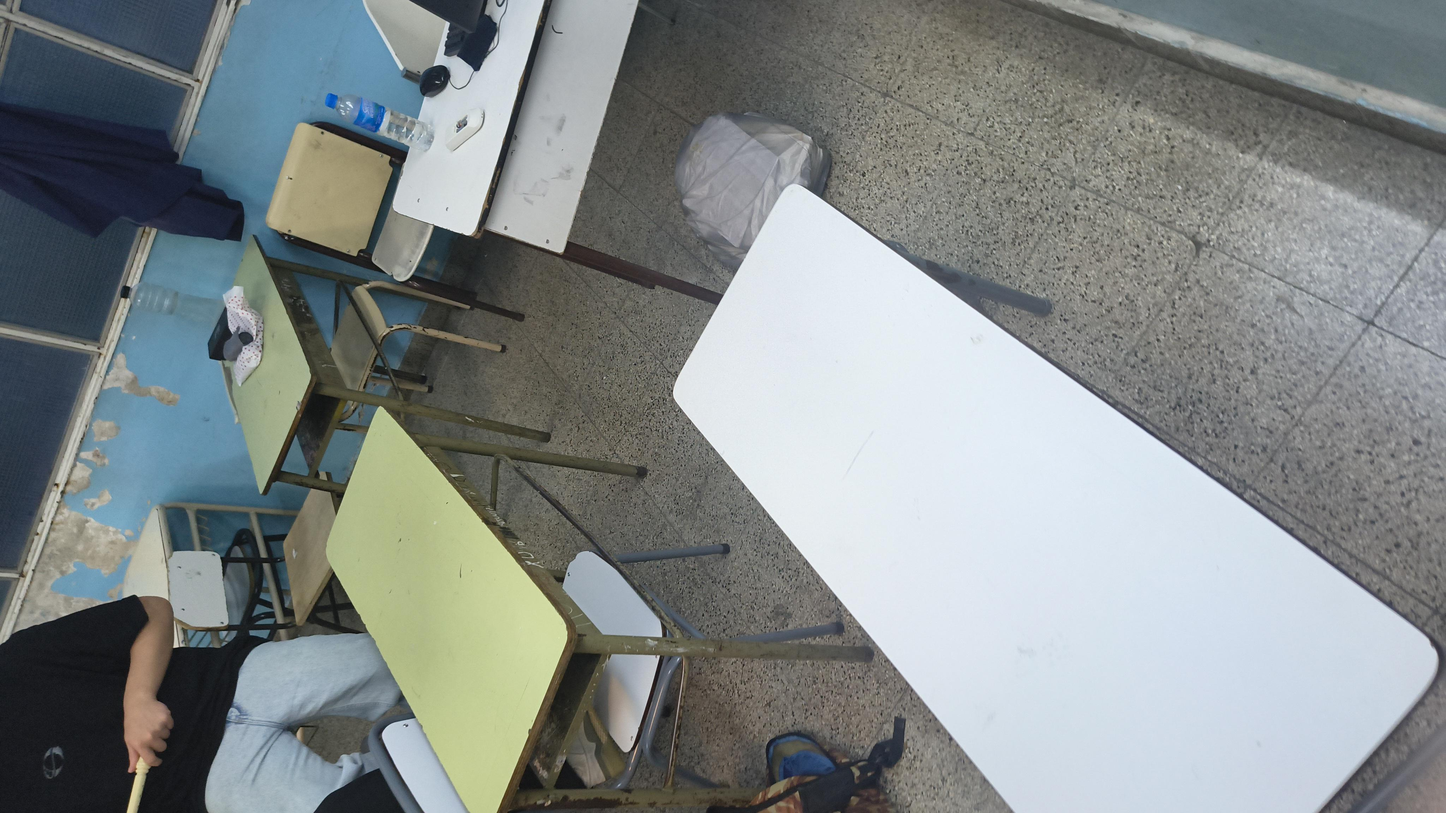Garbage: (960, 365, 1293, 476)
